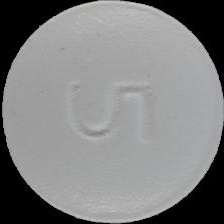16729-168: (0, 0, 224, 224)
